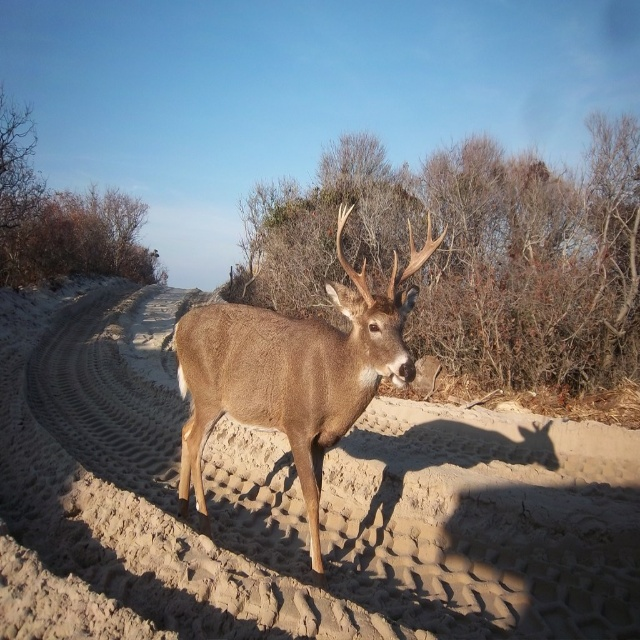Deer: (174, 199, 447, 572)
